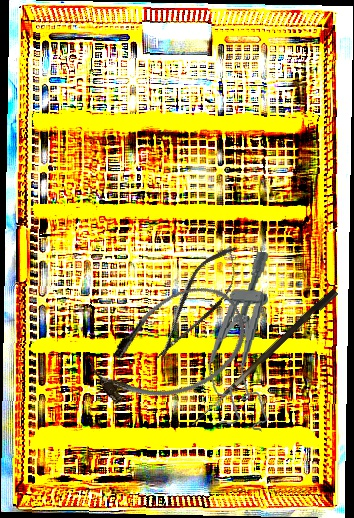Cannula: (78, 269, 262, 428)
Hook Surgical: (191, 285, 339, 433)
Micro Scissor: (141, 235, 253, 373)
Speculum: (202, 248, 283, 432)
